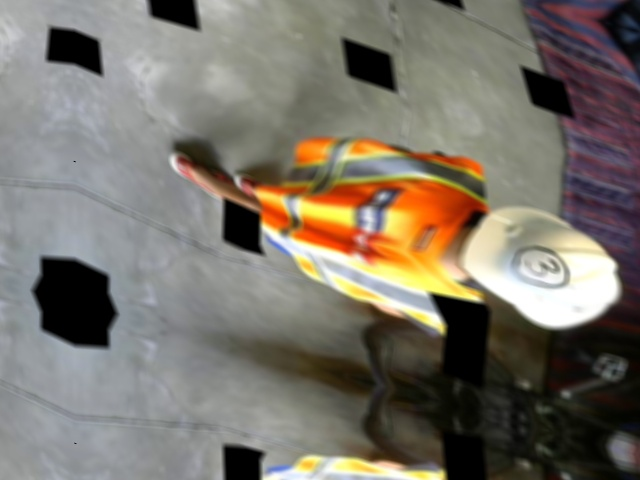three: (502, 237, 570, 292)
